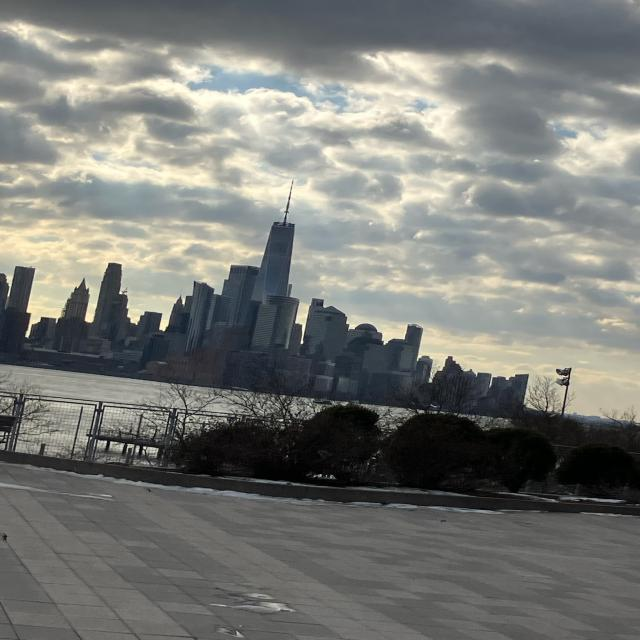WTC: (253, 176, 302, 297)
